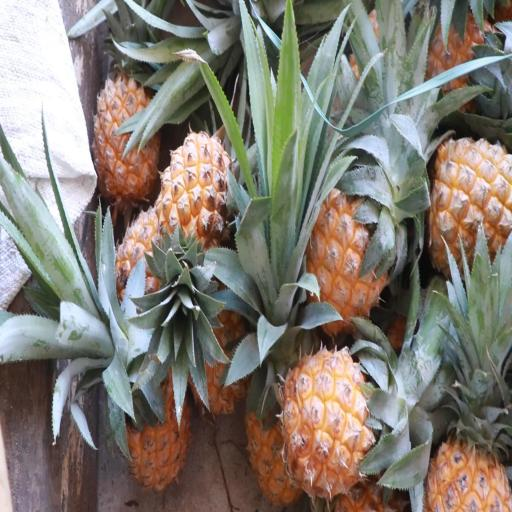Pineapple - v8 v1: (278, 334, 383, 505), (298, 173, 393, 340), (110, 308, 194, 495), (411, 359, 512, 512), (424, 130, 512, 282), (154, 126, 242, 262), (90, 63, 165, 205)
